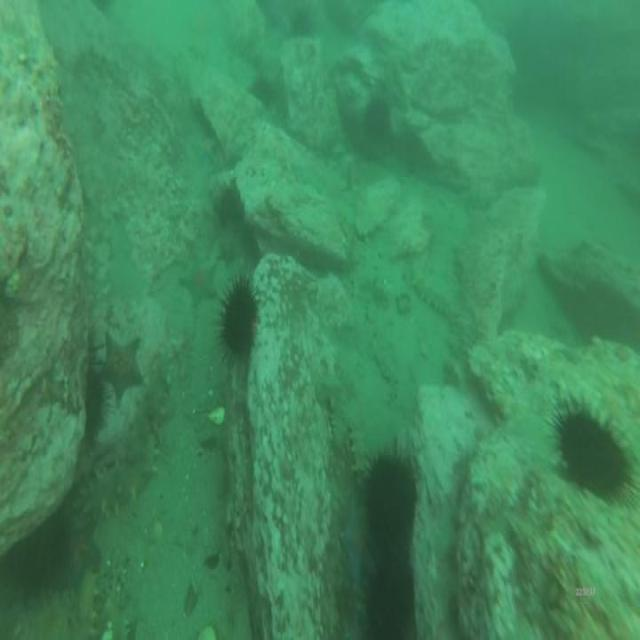echinus: (558, 409, 625, 496), (372, 450, 416, 546), (374, 564, 415, 640), (222, 284, 257, 356), (218, 184, 244, 232), (365, 96, 391, 142), (249, 71, 274, 109)
holothurian: (80, 458, 145, 517), (413, 264, 455, 324), (70, 568, 100, 636), (346, 418, 369, 480)
scallop: (208, 403, 225, 427)
starfish: (98, 328, 144, 404), (55, 515, 101, 586), (341, 510, 374, 580), (179, 253, 217, 306)
